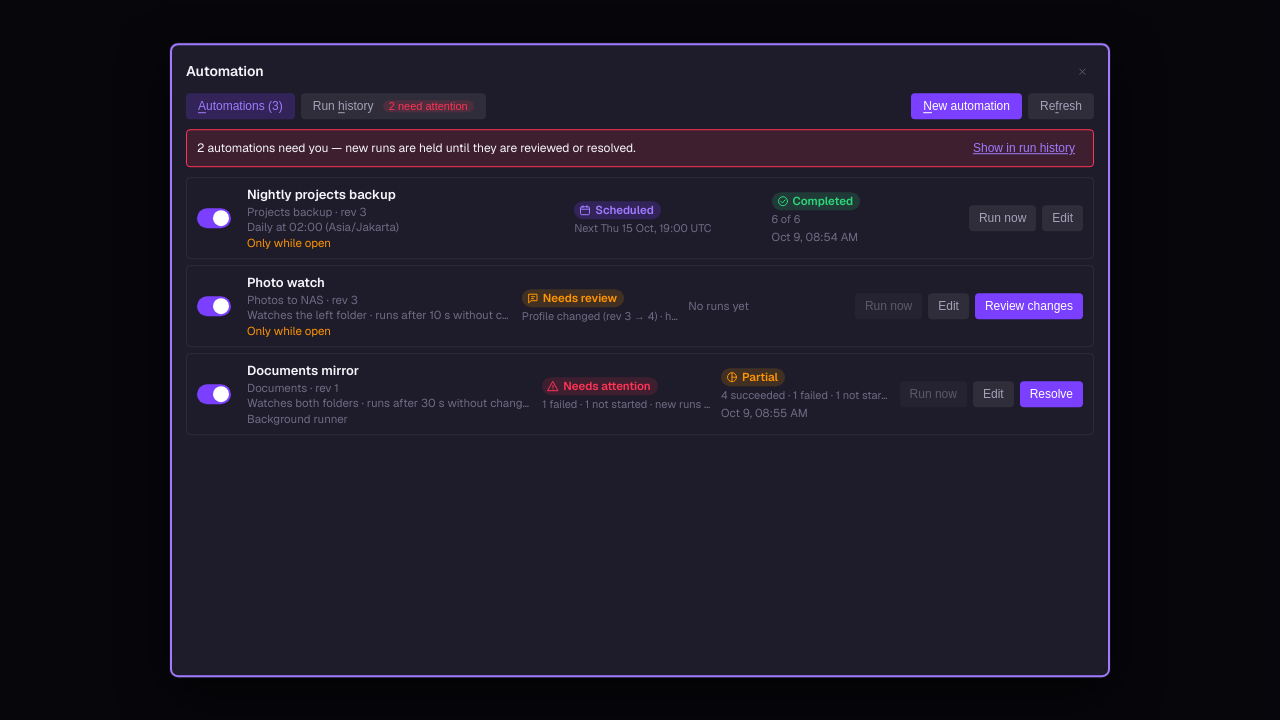
Watch fields in the editor (WA-1.3, WA-2) › with no watchable root the editor lists the error and Continue stays disabled
Click the button "New automation" at [967, 106], box [911, 93, 1022, 119]
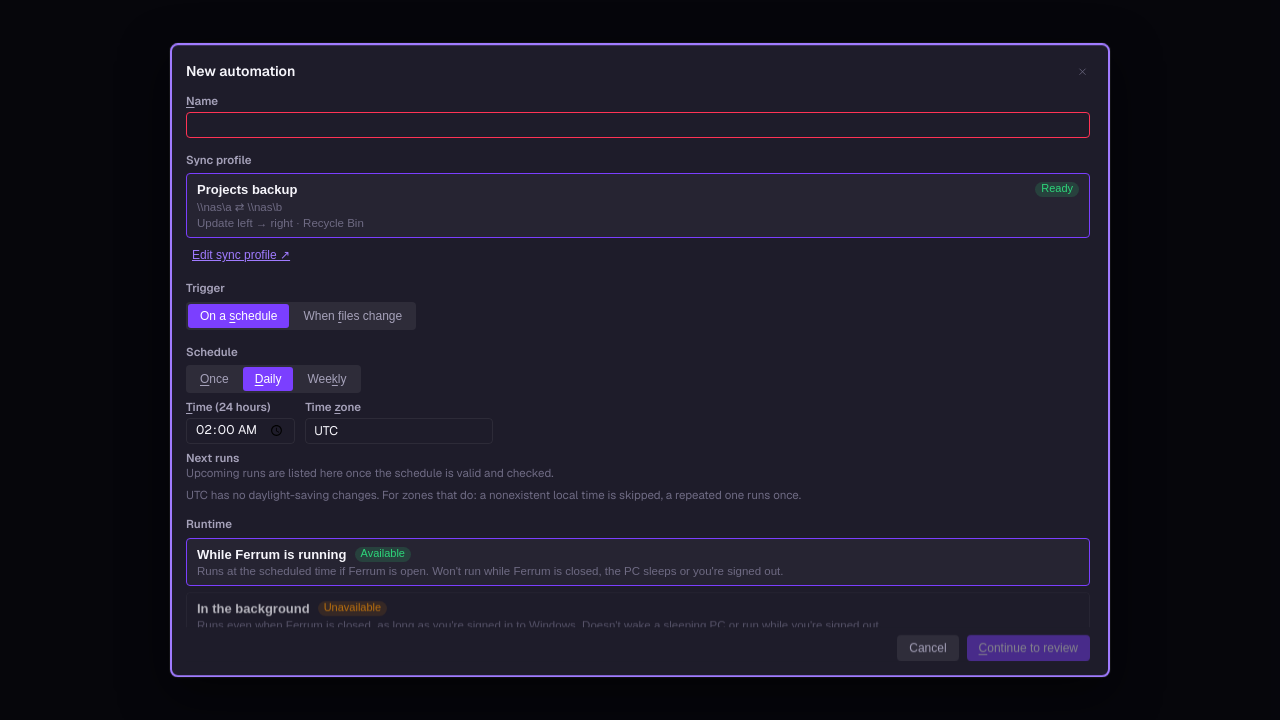
Click the radio button labelled "When files change" at [353, 316], box [291, 304, 414, 328]
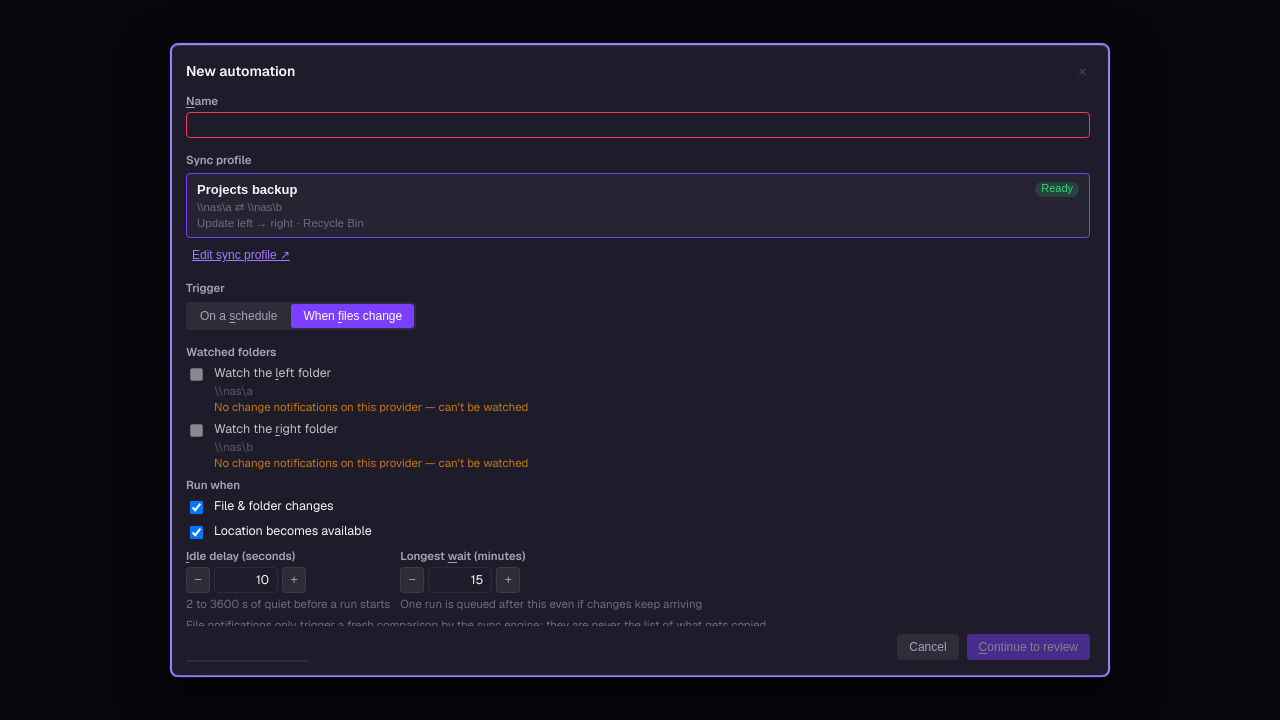
Result: the element with test id "watch-fields" is shown at [186, 344, 769, 661]
Result: the checkbox labelled "Watch the left folder" is disabled at [190, 368, 203, 381]
Result: the checkbox labelled "Watch the right folder" is disabled at [190, 424, 203, 437]
